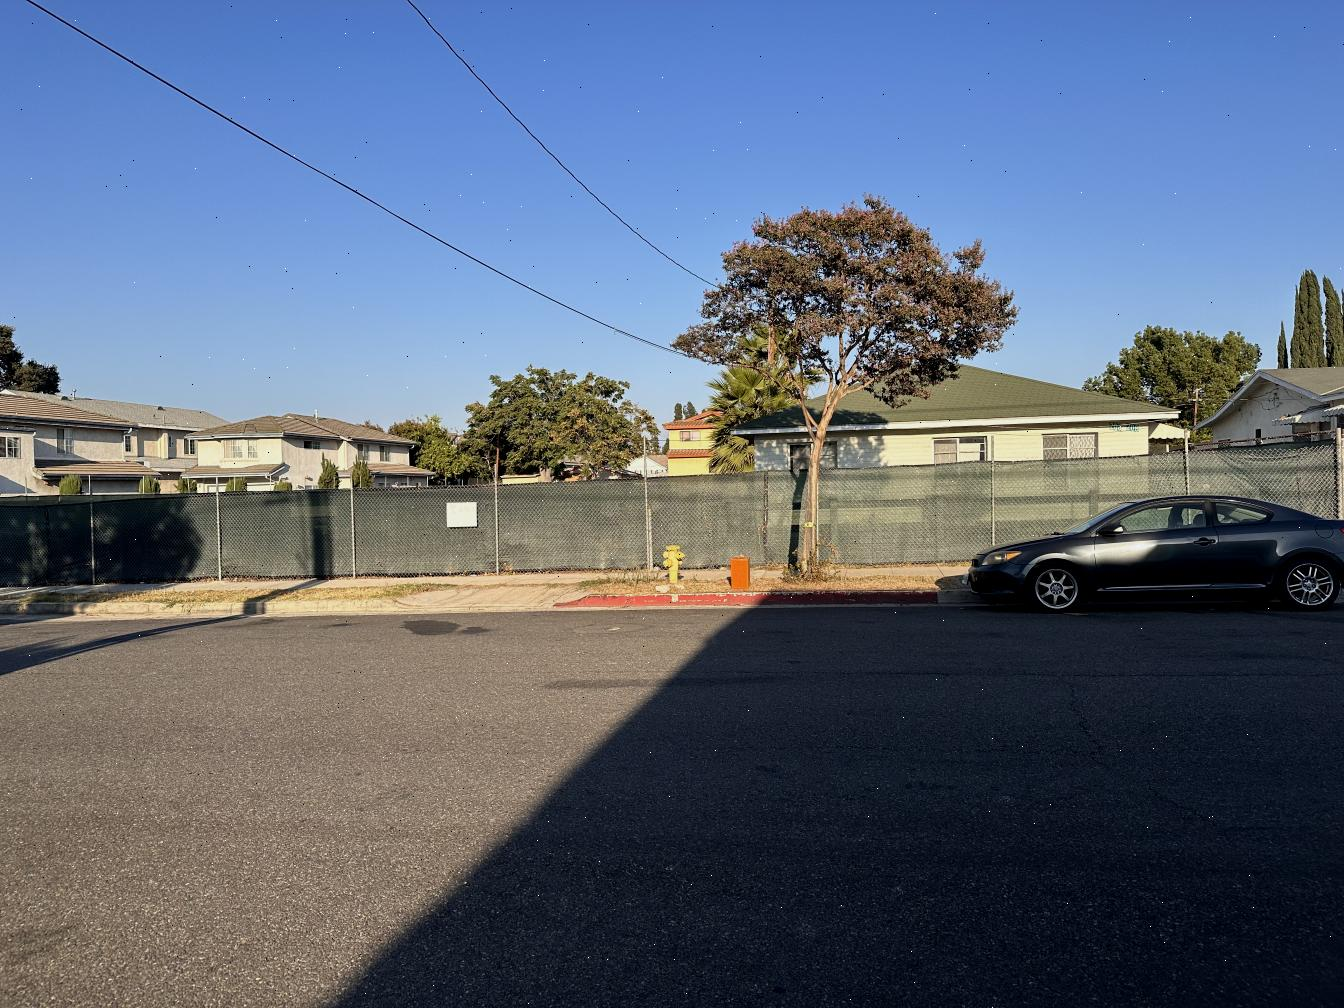curbs-laRr: (2, 598, 387, 617)
orange box: (730, 557, 750, 589)
